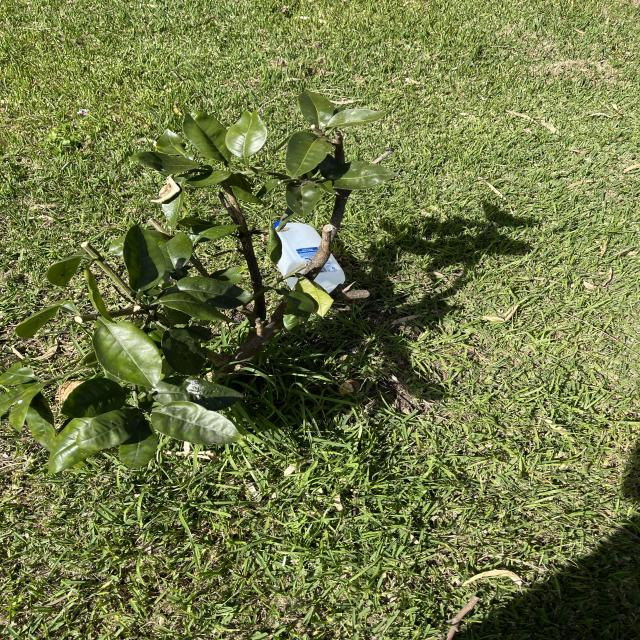bag: (273, 216, 355, 290)
